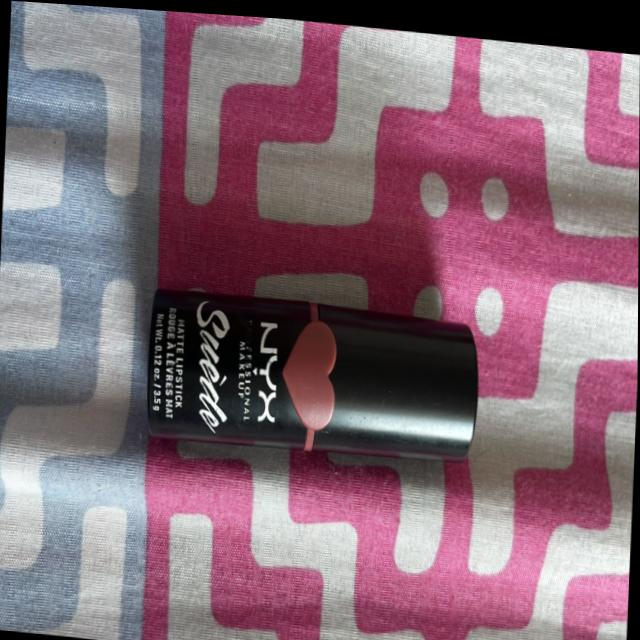lip stick: (127, 249, 502, 485)
